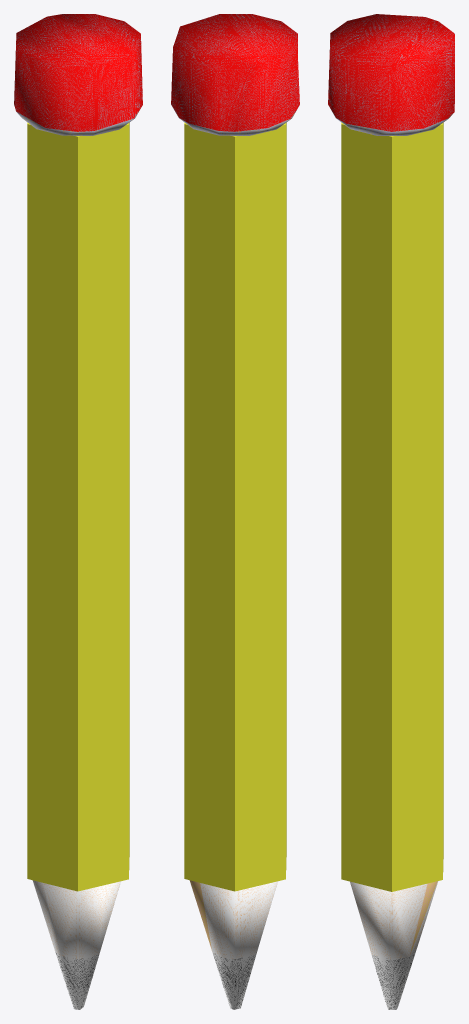
Rendered from Pencil.fbx.
3 renders of one model, left to right at view 1: azimuth 30°, elevation 25°; view 2: azimuth 210°, elevation 25°; view 3: azimuth 330°, elevation 25°, orthographic.
Parts seen in each view (by area): view 1: Group2, Group3, Group1; view 2: Group2, Group3, Group1; view 3: Group2, Group3, Group1.
Part boxes in pixels (x1,y1,x2,y2): Group2: (27, 122, 129, 891); Group3: (14, 14, 142, 135); Group1: (32, 880, 120, 1009); Group2: (184, 122, 286, 891); Group3: (171, 14, 299, 135); Group1: (189, 880, 277, 1009); Group2: (341, 122, 443, 891); Group3: (328, 14, 454, 135); Group1: (350, 881, 438, 1009).
Size of the model in its own units: 1.34 by 11.3 by 1.34.
